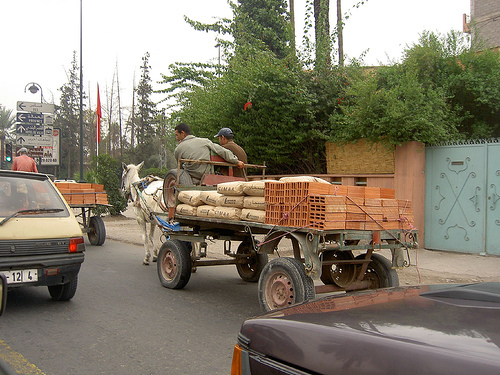horse: (119, 158, 173, 267)
